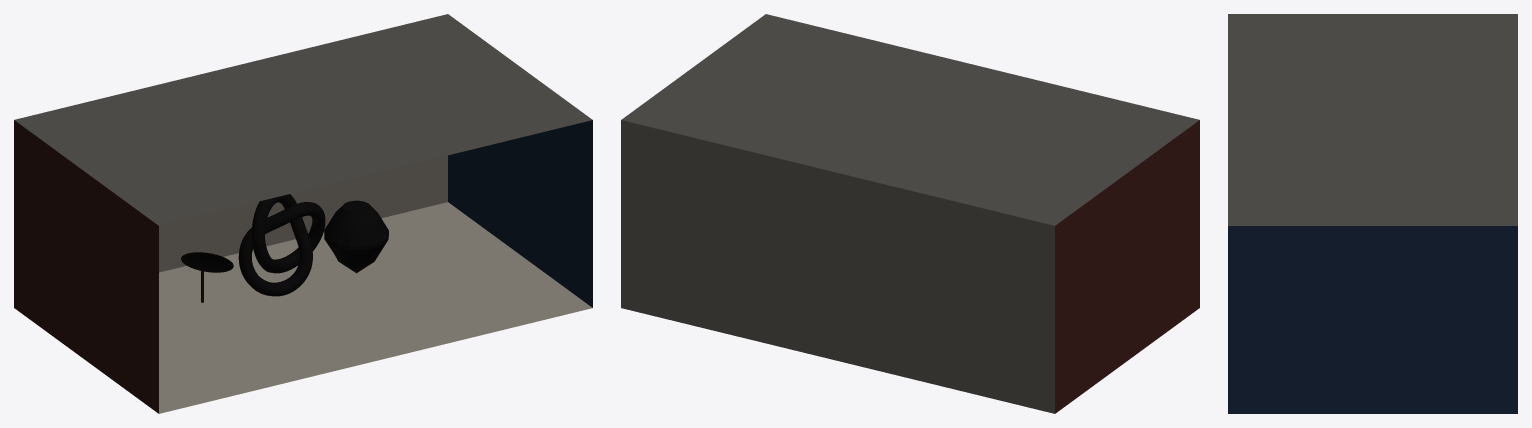
The model's file is sunlit_caustics_bench.obj.
The picture shows the model from 3 angles, left to right: view 1: azimuth 30°, elevation 25°; view 2: azimuth 150°, elevation 25°; view 3: azimuth 270°, elevation 25°; orthographic projection.
Visible parts, largest first — view 1: gallery_ceiling, gallery_floor, gallery_left, gallery_right, gallery_back, glass_trefoil_knot, glass_brilliant_gem, glass_focused_lens; view 2: gallery_back, gallery_ceiling, gallery_left; view 3: gallery_ceiling, gallery_right.
Part boxes in pixels (box(x1,y1,x2,y2)): gallery_ceiling: box(14, 14, 592, 225); gallery_floor: box(159, 202, 592, 413); gallery_left: box(14, 120, 158, 413); gallery_right: box(448, 120, 592, 307); gallery_back: box(159, 155, 447, 272); glass_trefoil_knot: box(238, 194, 325, 296); glass_brilliant_gem: box(324, 200, 388, 273); glass_focused_lens: box(181, 252, 233, 272); gallery_back: box(621, 120, 1054, 413); gallery_ceiling: box(621, 14, 1199, 225); gallery_left: box(1055, 120, 1199, 413); gallery_ceiling: box(1228, 14, 1517, 225); gallery_right: box(1228, 226, 1517, 413).
Size of the model in its own units: 6.4 by 2.65 by 3.7.
